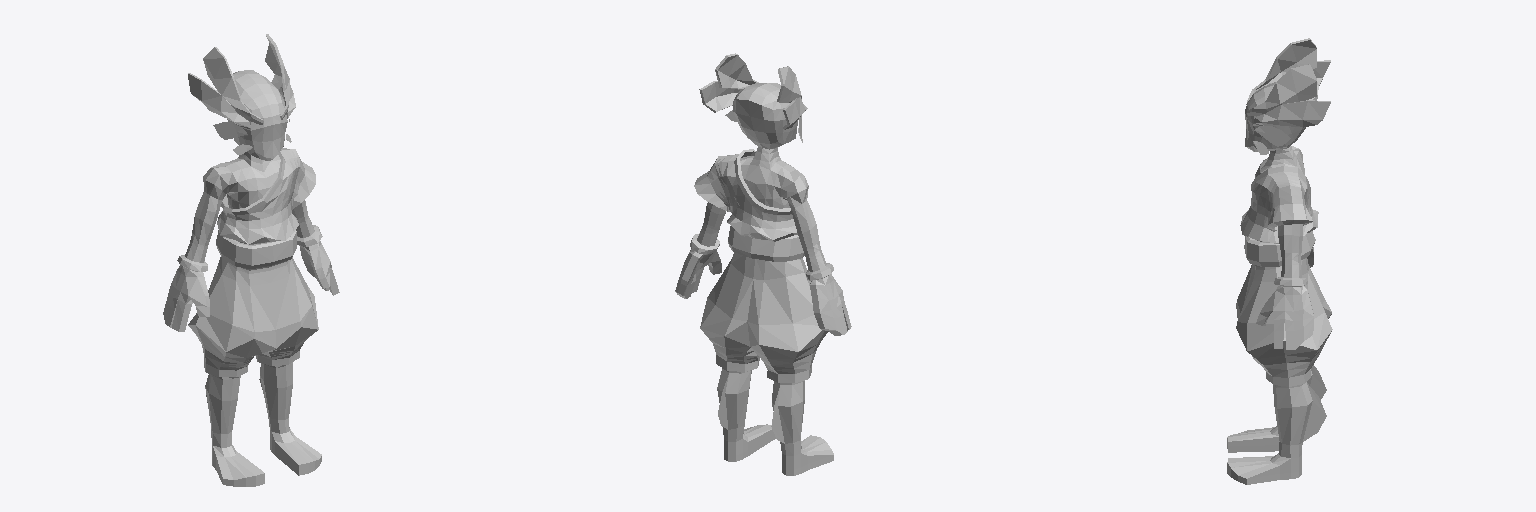
The model's file is PreastessModelv1.obj.
3 views of the same model, side by side, from view 1: azimuth 30°, elevation 25°; view 2: azimuth 150°, elevation 25°; view 3: azimuth 270°, elevation 25° (orthographic).
Visible parts, largest first — view 1: Body, Body.001, Body.002; view 2: Body, Body.001, Body.002; view 3: Body, Body.001, Body.002.
Part boxes in pixels (left/top/right/bottom): Body: left=163, top=34, right=339, bottom=486; Body.001: left=217, top=148, right=315, bottom=244; Body.002: left=216, top=230, right=296, bottom=268; Body: left=675, top=53, right=851, bottom=475; Body.001: left=694, top=149, right=797, bottom=241; Body.002: left=728, top=226, right=804, bottom=261; Body: left=1227, top=38, right=1332, bottom=484; Body.001: left=1240, top=166, right=1318, bottom=243; Body.002: left=1244, top=231, right=1315, bottom=266.
Bounding box in the file's own units: 1.81 × 4.27 × 0.9947.